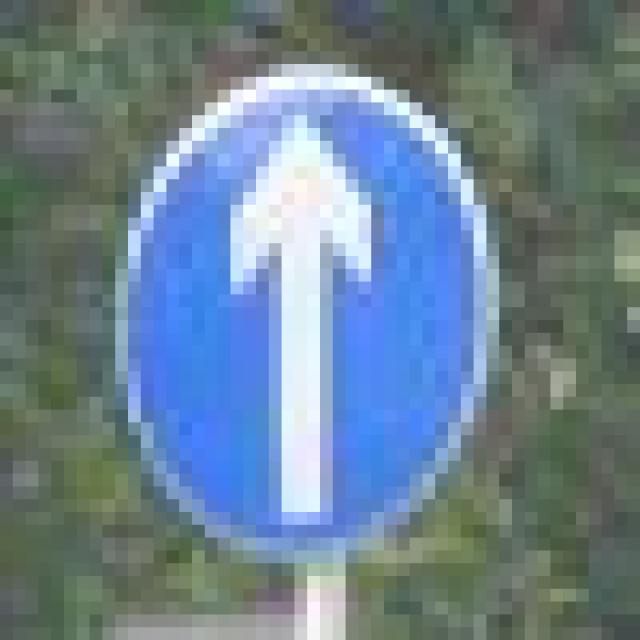COMPULSARY_AHEAD: (90, 51, 487, 538)
